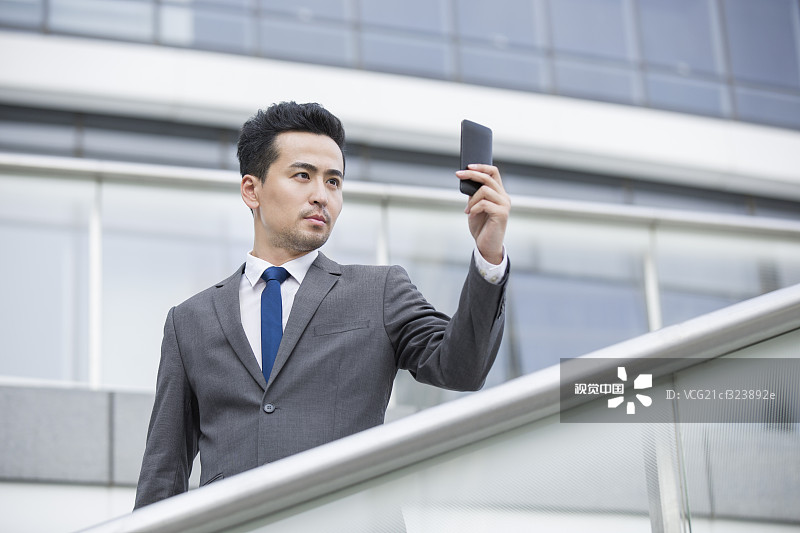taking photos: (441, 127, 529, 269)
